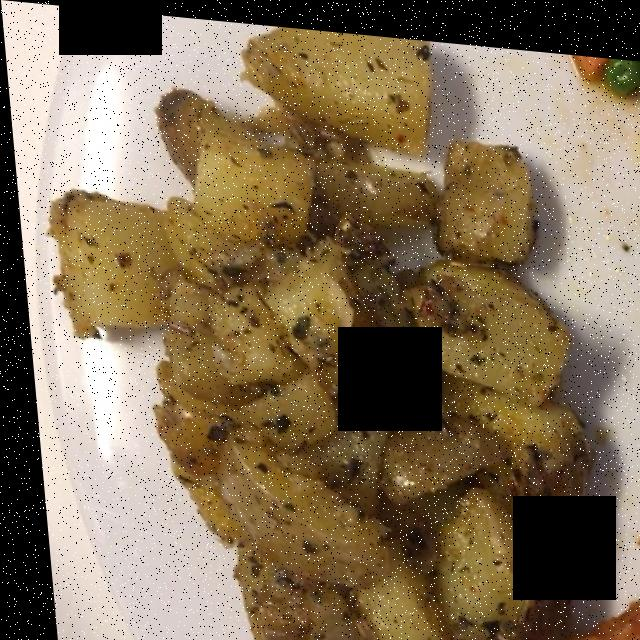baked-potato: (42, 30, 627, 640)
